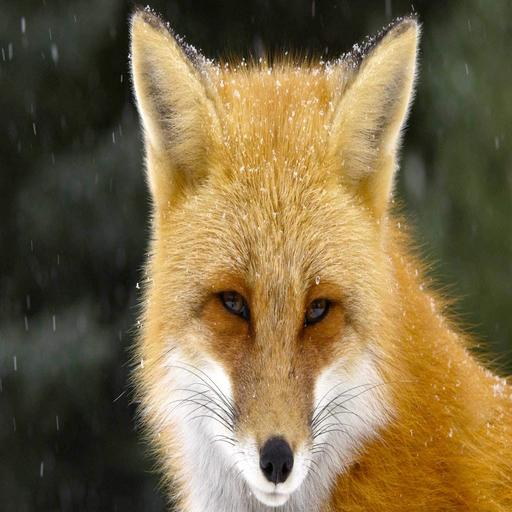Fox: (123, 1, 512, 512)
